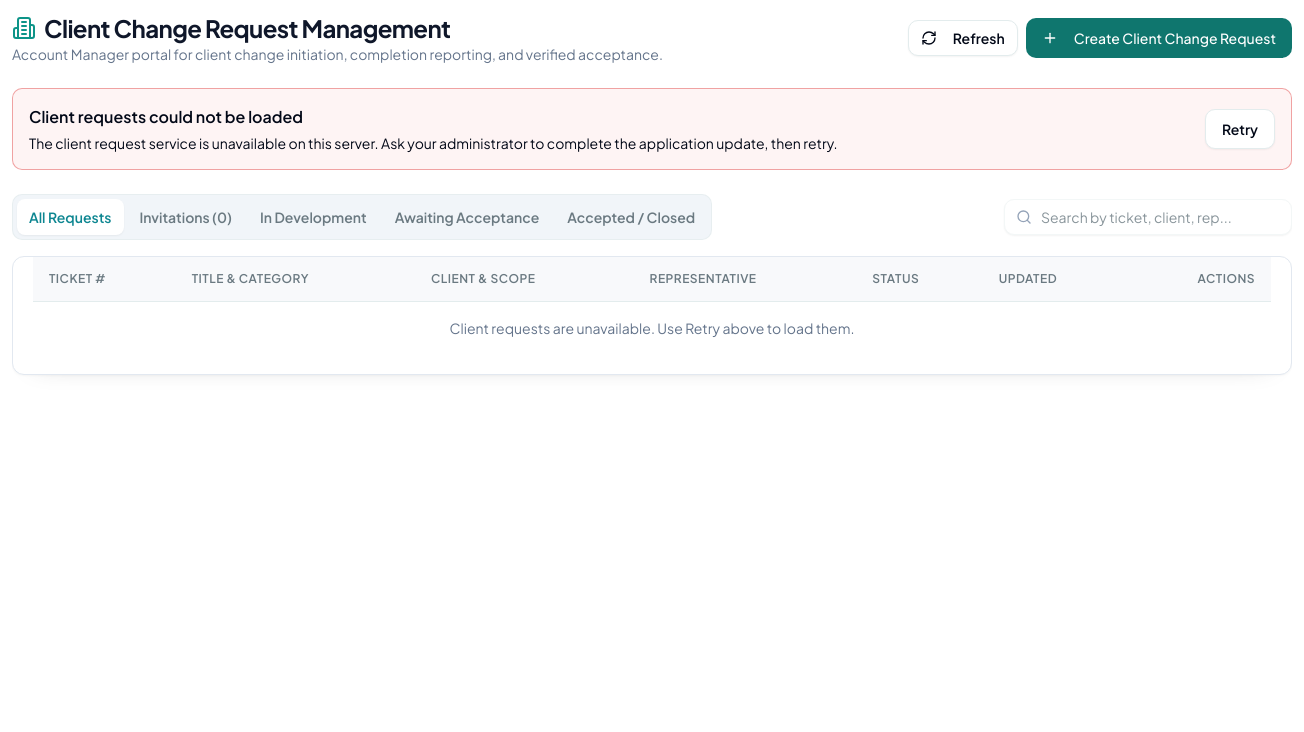
Test: missing portal route shows a persistent error, retries successfully and retains data on a later failure
Expected: the message shows "complete the application update", [29,134,838,152]
Expected: the text "Total Invitations" is not shown
What coordinates should you click on to do the following:
click the button "Retry"
I would click on:
 (1240, 129)
Its box is [1205,109,1275,149].
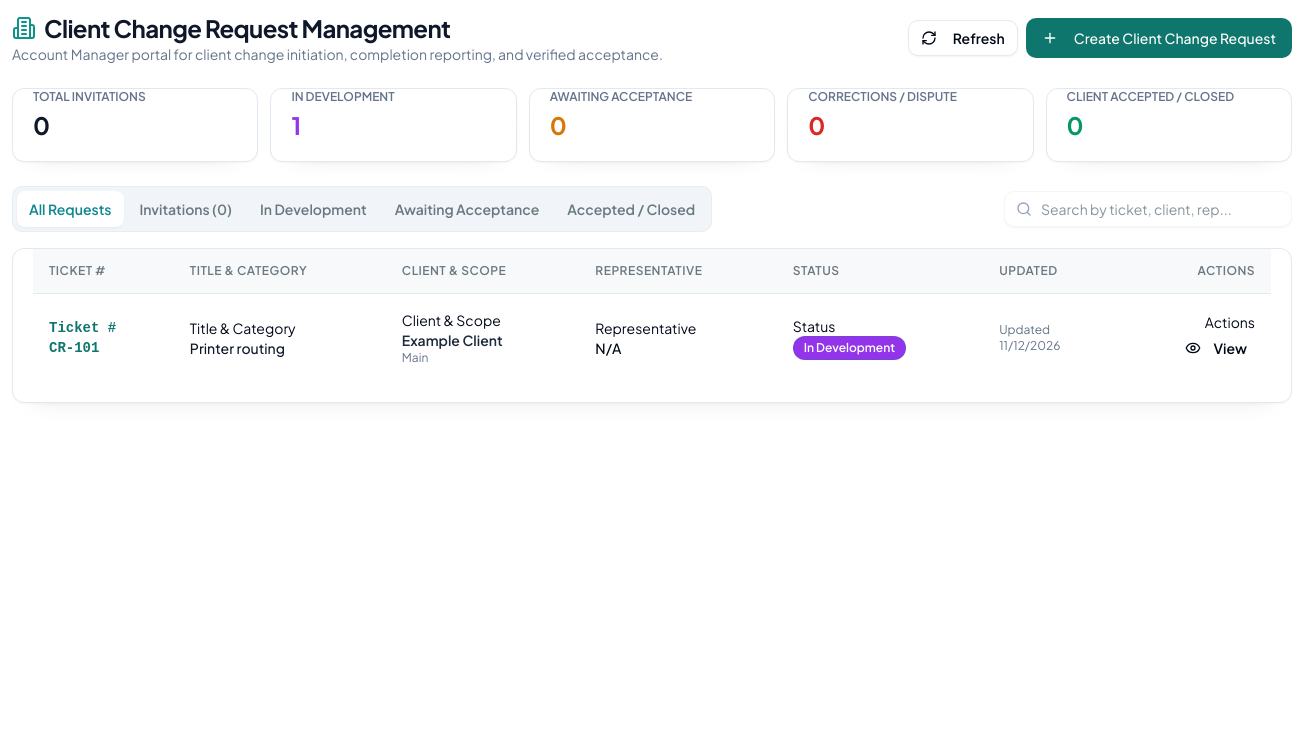
Expected: the link "CR-101" is shown, [49,340,99,356]
Expected: the message is gone
Expected: the text "Total Invitations" is shown, [33,89,146,104]
What coordinates should you click on to do the following:
click the button "Refresh"
I would click on:
 (963, 38)
Its box is [908,20,1018,56].
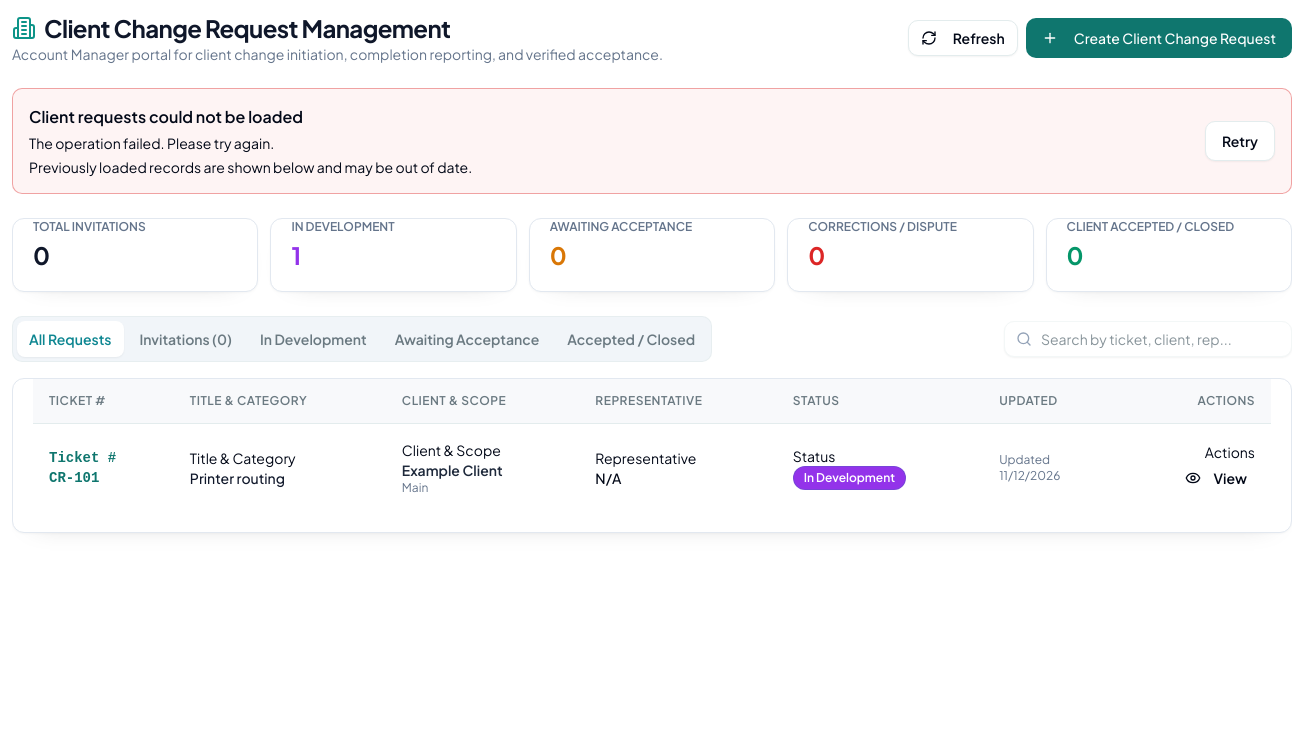
Expected: the message does not show "private backend detail", [12,88,1292,194]
Expected: the link "CR-101" is shown, [49,470,99,486]
Expected: the message shows "Previously loaded records", [29,158,472,176]
